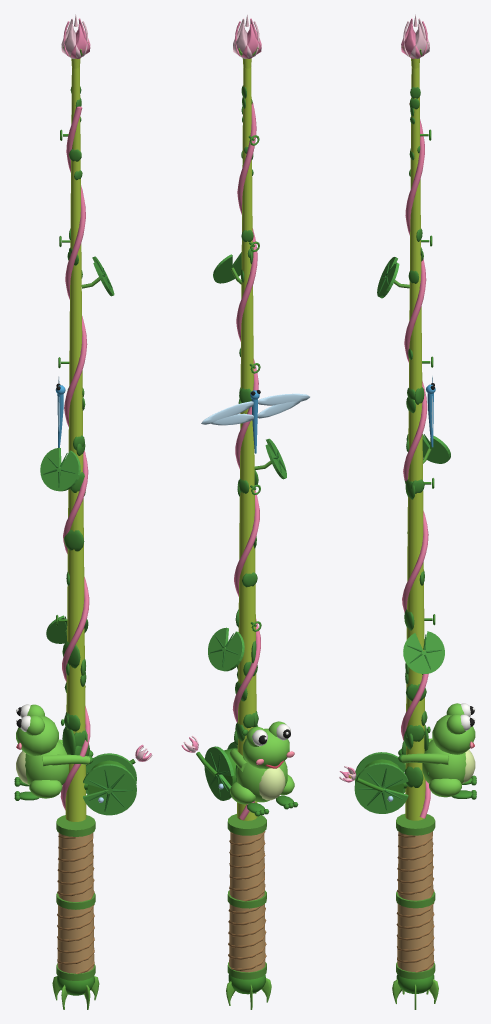
The model's file is FrogRod_before_throat_20261119.glb.
3 renders of one model, left to right at view 1: azimuth 90°, elevation 25°; view 2: azimuth 210°, elevation 25°; view 3: azimuth 270°, elevation 25°, orthographic.
Parts seen in each view (by area): view 1: FrogRod__FrogSkin, FrogRod__LilyPad, FrogRod__Grip, FrogRod__Frog, FrogRod__Ribbon, FrogRod__FrogSpot, FrogRod__Cord, FrogRod__GripDark, FrogRod__ReedDark, FrogRod__LotusLight, FrogRod__LilyDark, FrogRod__Lotus (+2 smaller); view 2: FrogRod__FrogSkin, FrogRod__Grip, FrogRod__LilyPad, FrogRod__Frog, FrogRod__Ribbon, FrogRod__FrogSpot, FrogRod__Wing, FrogRod__Cord, FrogRod__GripDark, FrogRod__ReedDark, FrogRod__FrogBelly, FrogRod__LotusLight (+6 smaller); view 3: FrogRod__FrogSkin, FrogRod__LilyPad, FrogRod__Grip, FrogRod__Frog, FrogRod__Ribbon, FrogRod__FrogSpot, FrogRod__Cord, FrogRod__GripDark, FrogRod__ReedDark, FrogRod__LotusLight, FrogRod__LilyDark, FrogRod__Lotus (+2 smaller).
Boxes of the visible parts, x1,y1,x2,y2 form: FrogRod__FrogSkin: (65, 58, 86, 821); FrogRod__LilyPad: (40, 256, 136, 815); FrogRod__Grip: (57, 833, 94, 973); FrogRod__Frog: (16, 704, 90, 798); FrogRod__Ribbon: (60, 106, 90, 810); FrogRod__FrogSpot: (62, 86, 89, 775); FrogRod__Cord: (56, 277, 100, 980); FrogRod__GripDark: (57, 833, 94, 973); FrogRod__ReedDark: (56, 129, 135, 995); FrogRod__LotusLight: (61, 14, 152, 761); FrogRod__LilyDark: (43, 259, 132, 811); FrogRod__Lotus: (63, 18, 151, 761); FrogRod__FrogSkin: (237, 58, 257, 820); FrogRod__Grip: (229, 832, 265, 972); FrogRod__LilyPad: (204, 252, 286, 800); FrogRod__Frog: (229, 721, 294, 804); FrogRod__Ribbon: (232, 102, 260, 820); FrogRod__FrogSpot: (234, 85, 258, 781); FrogRod__Wing: (201, 393, 309, 425); FrogRod__Cord: (227, 267, 271, 979); FrogRod__GripDark: (228, 831, 266, 970); FrogRod__ReedDark: (196, 135, 265, 994); FrogRod__FrogBelly: (259, 767, 285, 800); FrogRod__LotusLight: (183, 15, 259, 752); FrogRod__FrogSkin: (405, 58, 425, 820); FrogRod__LilyPad: (354, 257, 450, 813); FrogRod__Grip: (397, 831, 433, 971); FrogRod__Frog: (401, 703, 475, 797); FrogRod__Ribbon: (401, 103, 430, 818); FrogRod__FrogSpot: (401, 87, 428, 787); FrogRod__Cord: (394, 280, 435, 979); FrogRod__GripDark: (396, 831, 434, 972); FrogRod__ReedDark: (356, 129, 435, 993); FrogRod__LotusLight: (339, 14, 429, 782); FrogRod__LilyDark: (358, 262, 441, 810); FrogRod__Lotus: (339, 18, 427, 782).
Bounding box in the file's own units: 0.7567 × 6.52 × 0.8253.
